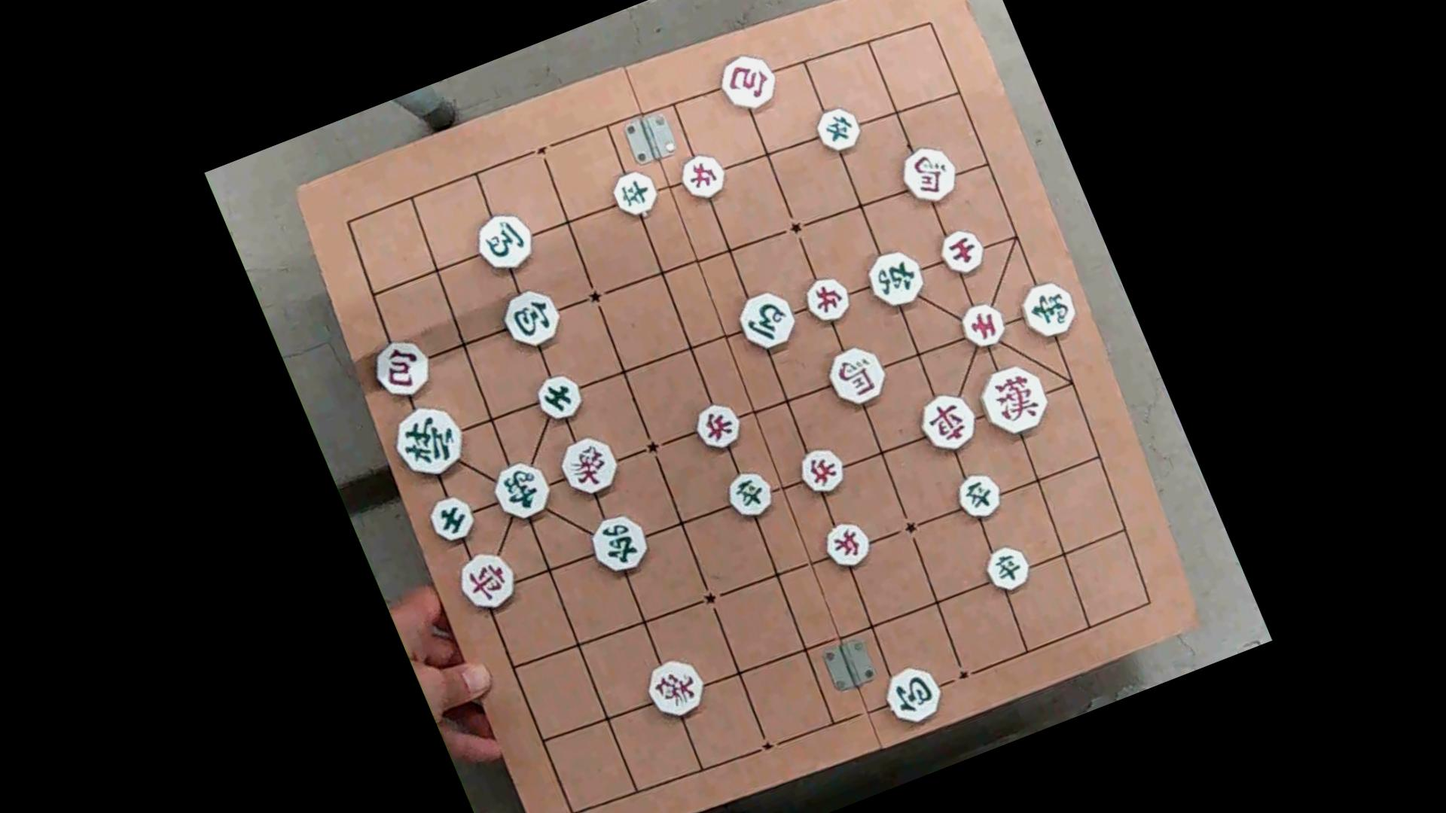cha_green: (582, 509, 654, 578), (862, 244, 929, 312)
cha_red: (916, 388, 984, 459), (452, 547, 520, 616)
jol_green: (978, 540, 1036, 599), (720, 466, 777, 524), (950, 467, 1005, 524), (609, 166, 663, 222), (810, 102, 863, 157)
jol_red: (691, 399, 746, 457), (819, 514, 874, 571), (674, 149, 728, 204), (794, 445, 848, 500), (801, 273, 854, 327)
ma_green: (468, 206, 540, 277), (730, 285, 799, 355)
ma_red: (895, 139, 962, 208), (822, 341, 889, 410)
po_green: (496, 282, 566, 352), (880, 660, 949, 729)
po_red: (365, 331, 441, 406), (712, 46, 781, 116)
sa_green: (424, 491, 478, 547), (534, 371, 587, 427)
sa_red: (935, 221, 990, 279), (955, 295, 1009, 352)
sang_green: (485, 454, 554, 525), (1015, 277, 1083, 344)
sang_red: (552, 431, 625, 503), (640, 655, 709, 723)
wang_green: (386, 398, 472, 485)
wang_red: (977, 360, 1054, 440)
